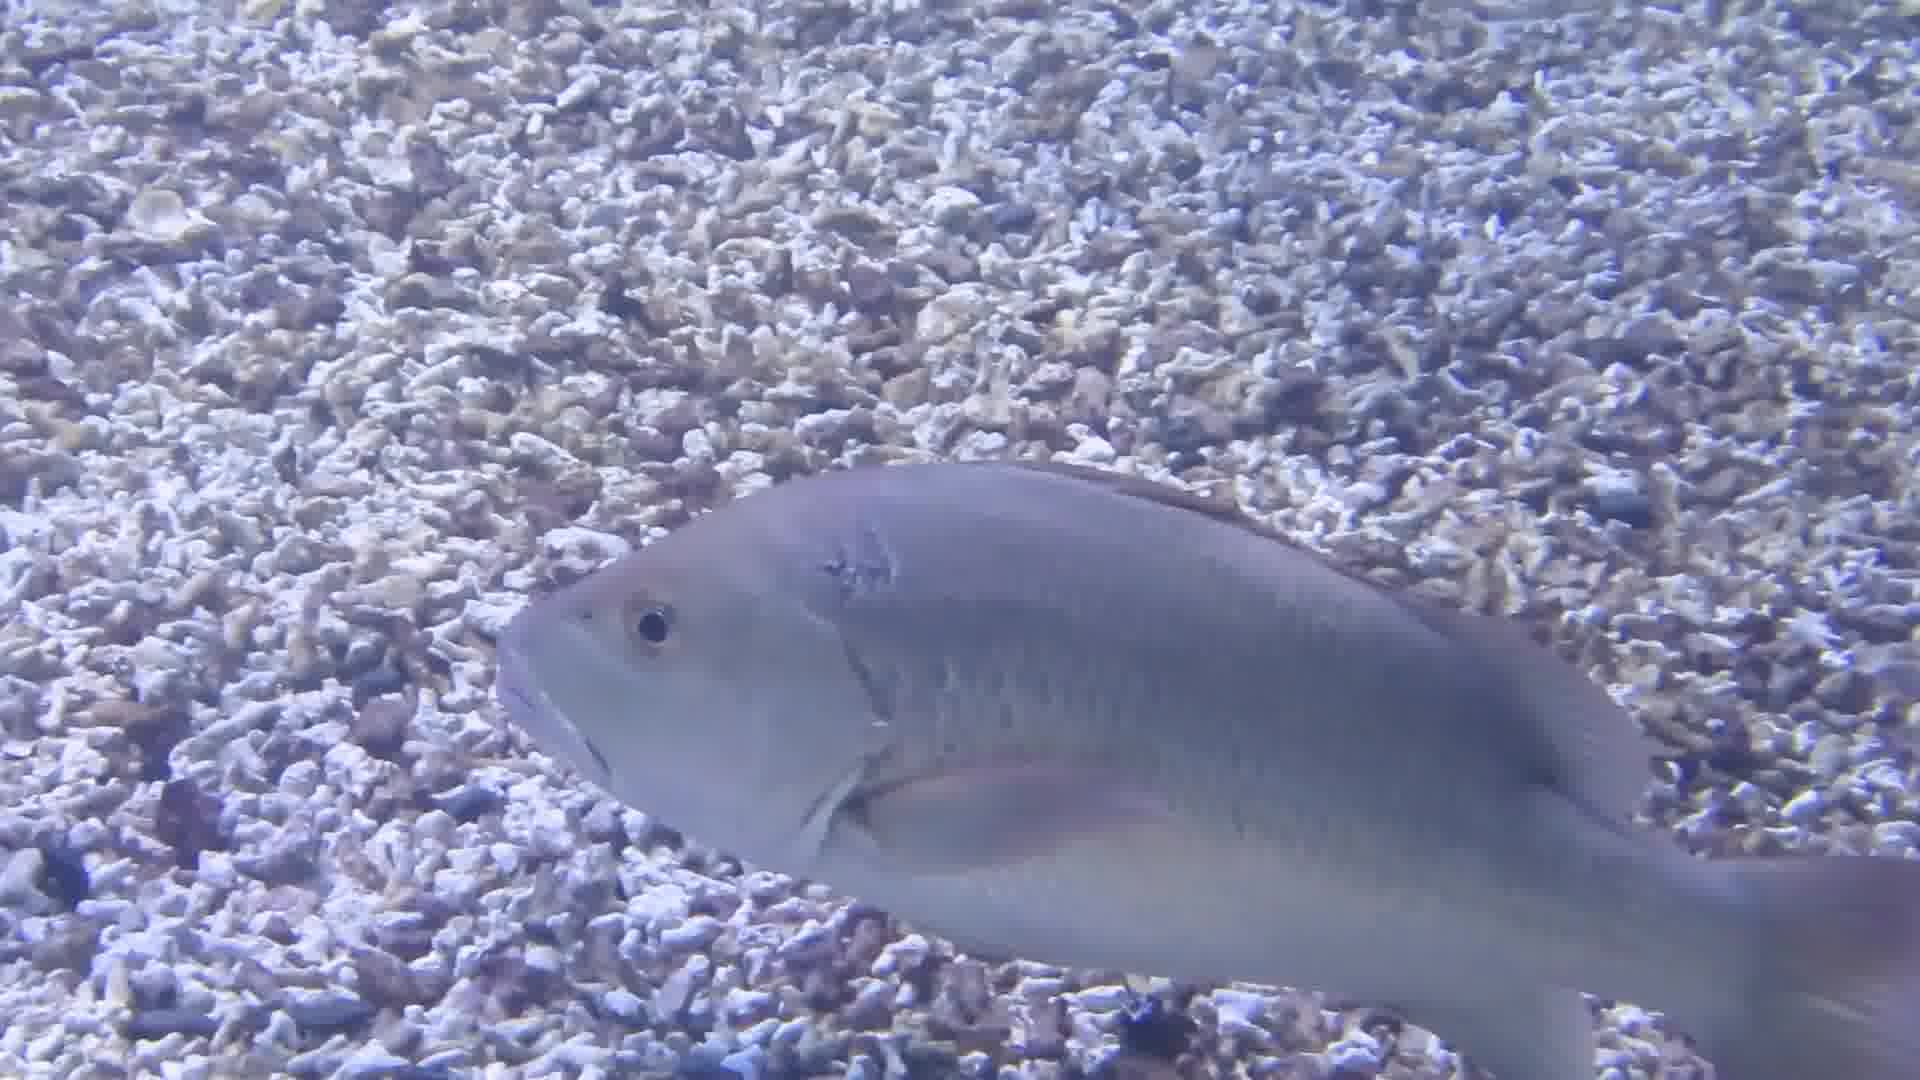Lutjanus argentimaculatus: (500, 455, 1753, 1029)
